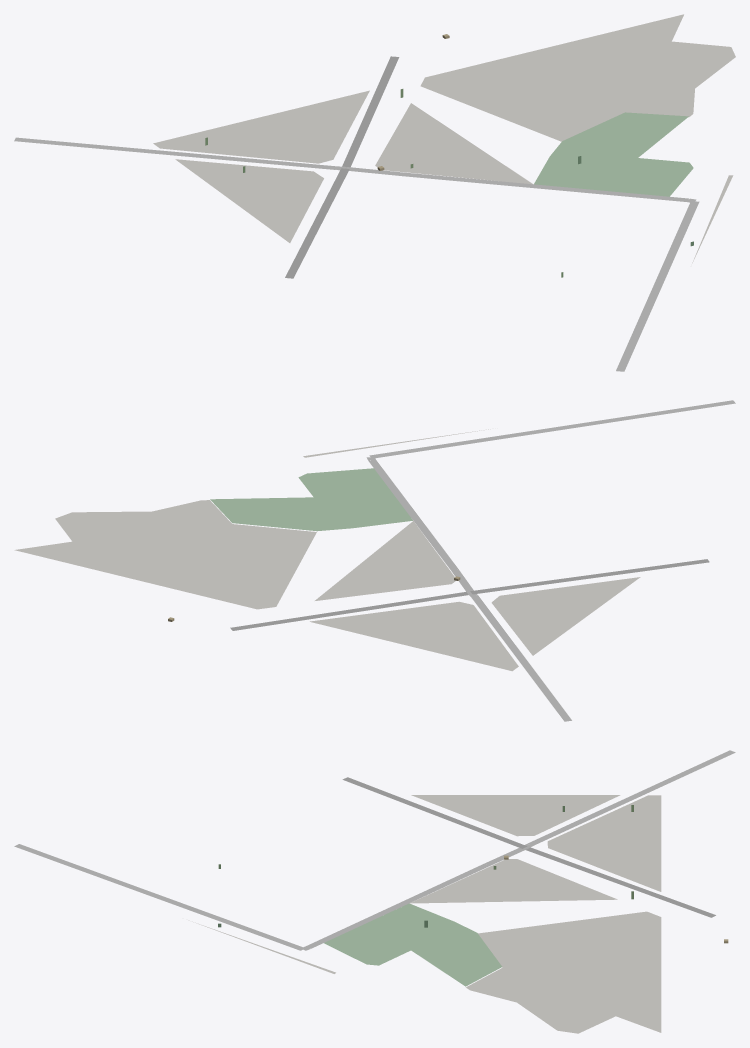
The picture shows the model from 3 angles, top to bottom: view 1: azimuth 30°, elevation 25°; view 2: azimuth 150°, elevation 25°; view 3: azimuth 270°, elevation 25°; orthographic projection. The views are drawn at different scales.
Size of the model in its own units: 585 by 8.29 by 629.
